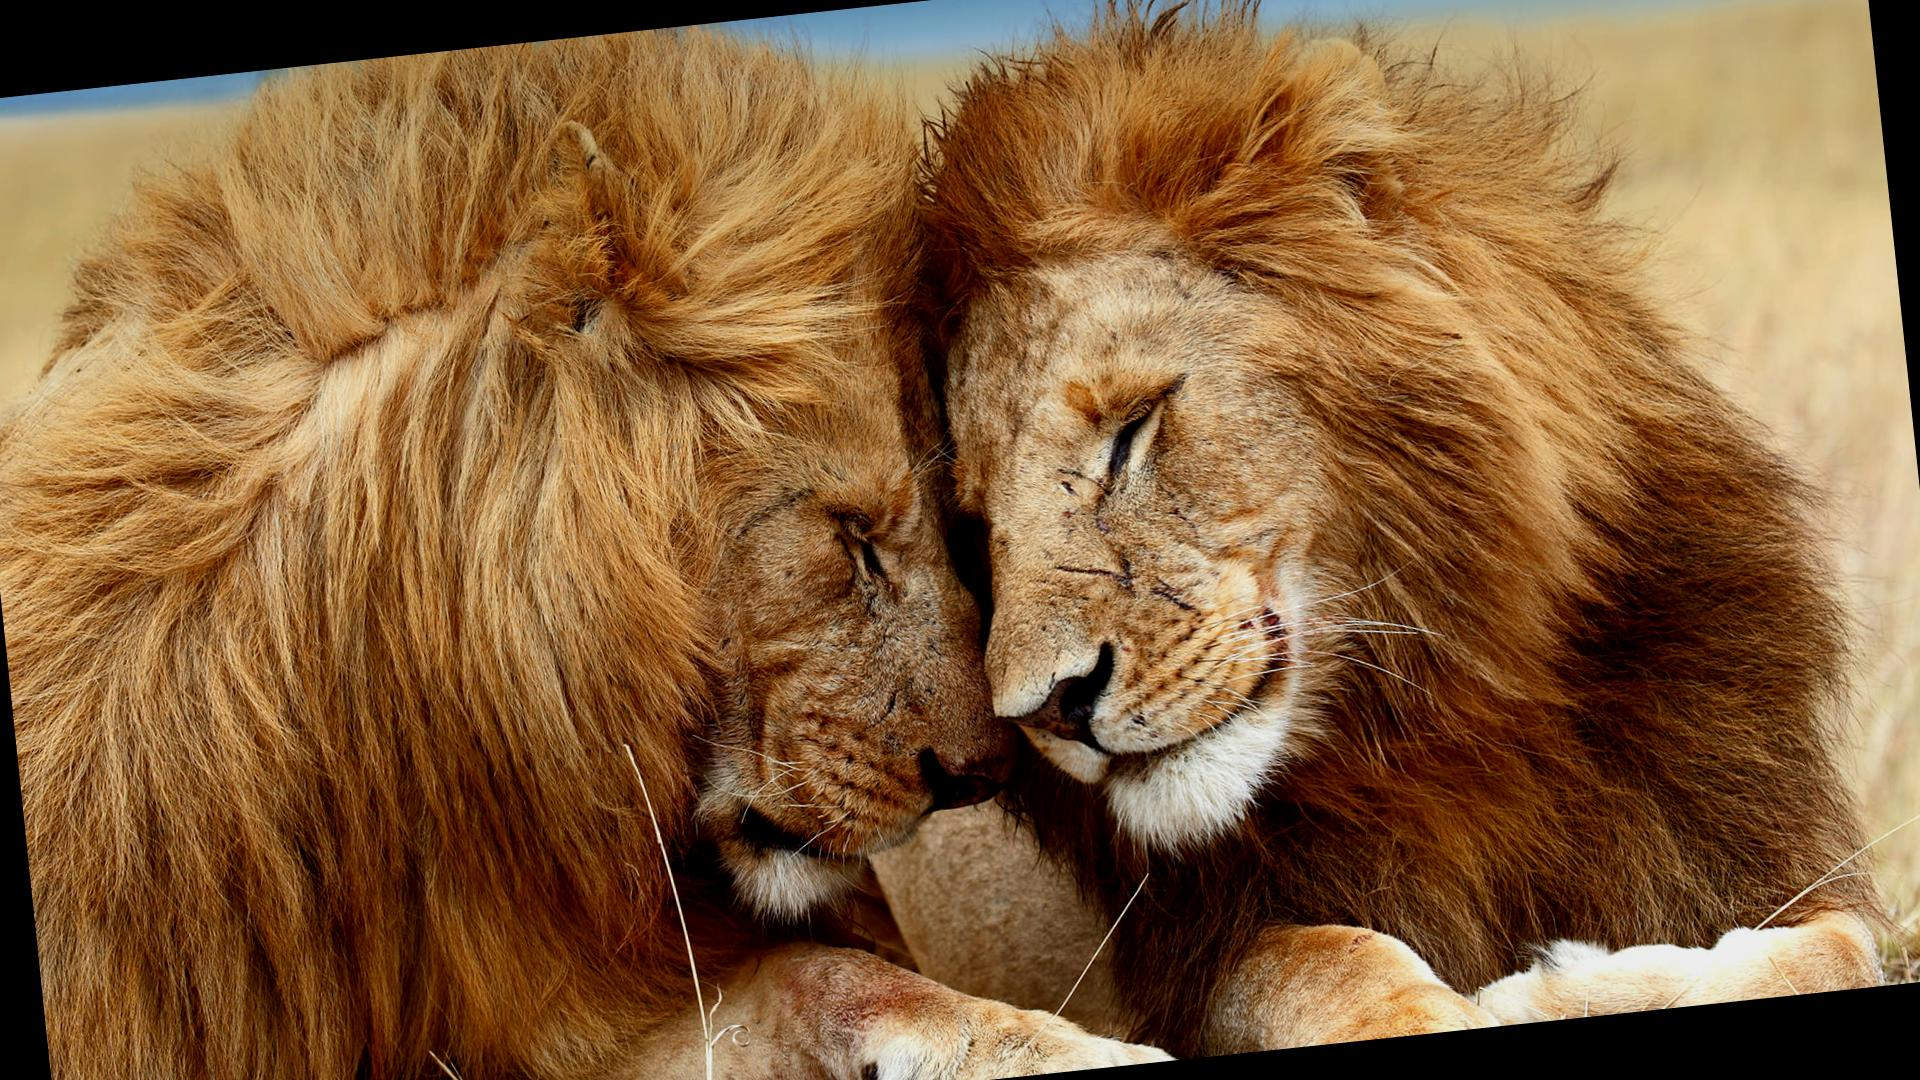lions: (0, 0, 1847, 1080)
